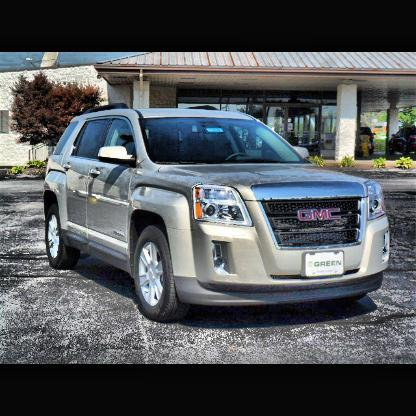GMC Terrain SUV 2012: (43, 108, 392, 325)
